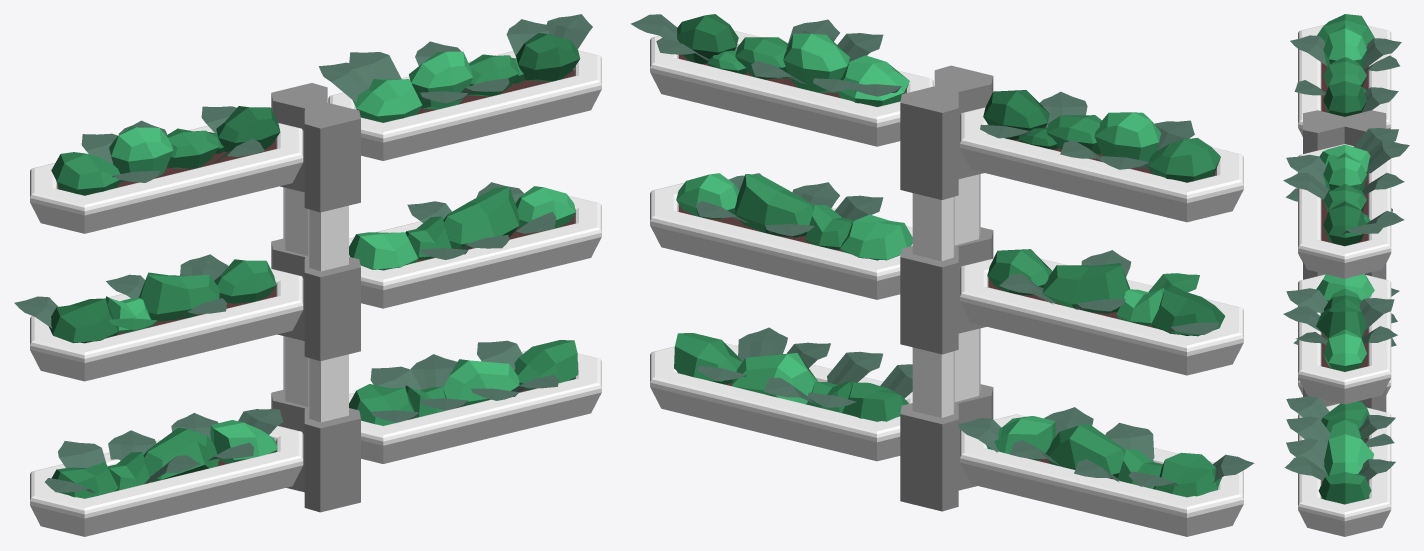
Rendered from Plant_farm_thing.fbx.
3 views of the same model, side by side, from view 1: azimuth 30°, elevation 25°; view 2: azimuth 150°, elevation 25°; view 3: azimuth 270°, elevation 25° (orthographic). The views are drawn at different scales.
Visible parts, largest first — view 1: polySurface220, polySurface219, polySurface222, polySurface221, polySurface223, polySurface218, polySurface214, polySurface216, polySurface224, polySurface217, polySurface215, polySurface240 (+36 smaller); view 2: polySurface222, polySurface219, polySurface220, polySurface218, polySurface221, polySurface223, polySurface214, polySurface216, polySurface224, polySurface217, polySurface215, polySurface240 (+34 smaller); view 3: polySurface221, polySurface223, polySurface218, polySurface214, polySurface219, polySurface279, polySurface237, polySurface248, polySurface240, polySurface281, polySurface257, polySurface259 (+38 smaller).
Boxes of the visible parts, box(x1,y1,x2,y2) form: polySurface220: box(30, 426, 303, 536); polySurface219: box(30, 123, 303, 233); polySurface222: box(30, 268, 303, 381); polySurface221: box(328, 50, 601, 160); polySurface223: box(349, 195, 601, 308); polySurface218: box(349, 351, 601, 463); polySurface214: box(271, 83, 360, 212); polySurface216: box(271, 238, 360, 361); polySurface224: box(271, 390, 360, 512); polySurface217: box(283, 336, 348, 422); polySurface215: box(283, 187, 348, 271); polySurface240: box(443, 187, 519, 248); polySurface222: box(960, 258, 1243, 375); polySurface219: box(960, 107, 1243, 222); polySurface220: box(960, 414, 1243, 536); polySurface218: box(650, 343, 912, 461); polySurface221: box(650, 30, 933, 146); polySurface223: box(650, 182, 912, 299); polySurface214: box(900, 65, 993, 199); polySurface216: box(900, 227, 993, 354); polySurface224: box(900, 384, 993, 511); polySurface217: box(912, 328, 980, 417); polySurface215: box(912, 174, 980, 261); polySurface240: box(735, 174, 814, 237); polySurface221: box(1298, 144, 1391, 278); polySurface223: box(1298, 274, 1391, 404); polySurface218: box(1298, 403, 1391, 536); polySurface214: box(1303, 110, 1386, 153); polySurface219: box(1298, 24, 1391, 136); polySurface279: box(1324, 434, 1374, 475); polySurface237: box(1323, 329, 1366, 371); polySurface248: box(1323, 201, 1366, 246); polySurface240: box(1316, 298, 1366, 339); polySurface281: box(1318, 472, 1371, 504); polySurface257: box(1323, 24, 1366, 67); polySurface259: box(1323, 81, 1366, 116).
Bounding box in the file's own units: 3.34 × 2.26 × 0.7523.
